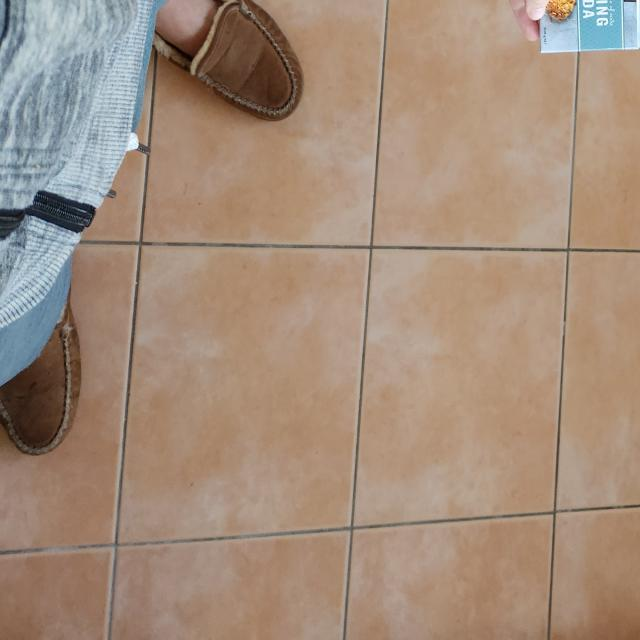baking soda: (534, 0, 640, 52)
